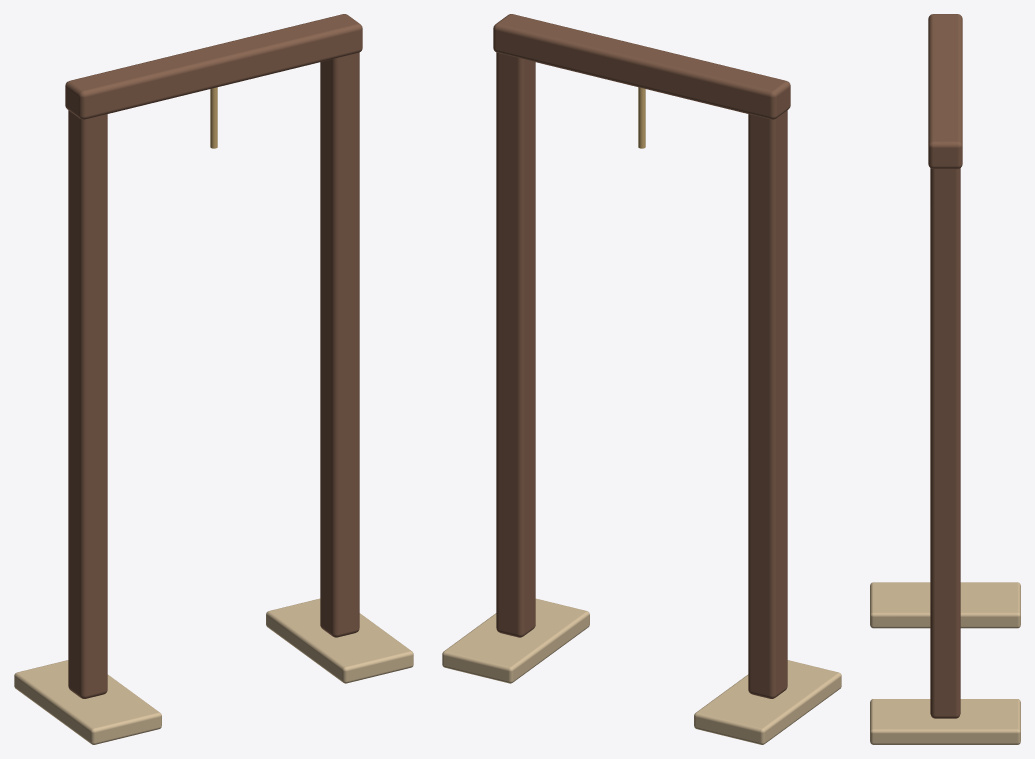
Rendered from griffin-airmail-roost-and-posthouse-bell-support-arch-9f74d935__30536.glb.
3 views of the same model, side by side, from view 1: azimuth 30°, elevation 25°; view 2: azimuth 150°, elevation 25°; view 3: azimuth 270°, elevation 25° (orthographic). The views are drawn at different scales.
Visible parts, largest first — view 1: bell-support-arch; view 2: bell-support-arch; view 3: bell-support-arch.
Boxes of the visible parts, <box> form: bell-support-arch: <box>14,14,413,744</box>; bell-support-arch: <box>442,14,841,744</box>; bell-support-arch: <box>870,14,1020,744</box>.
Size of the model in its own units: 0.82 by 1.52 by 0.35.
